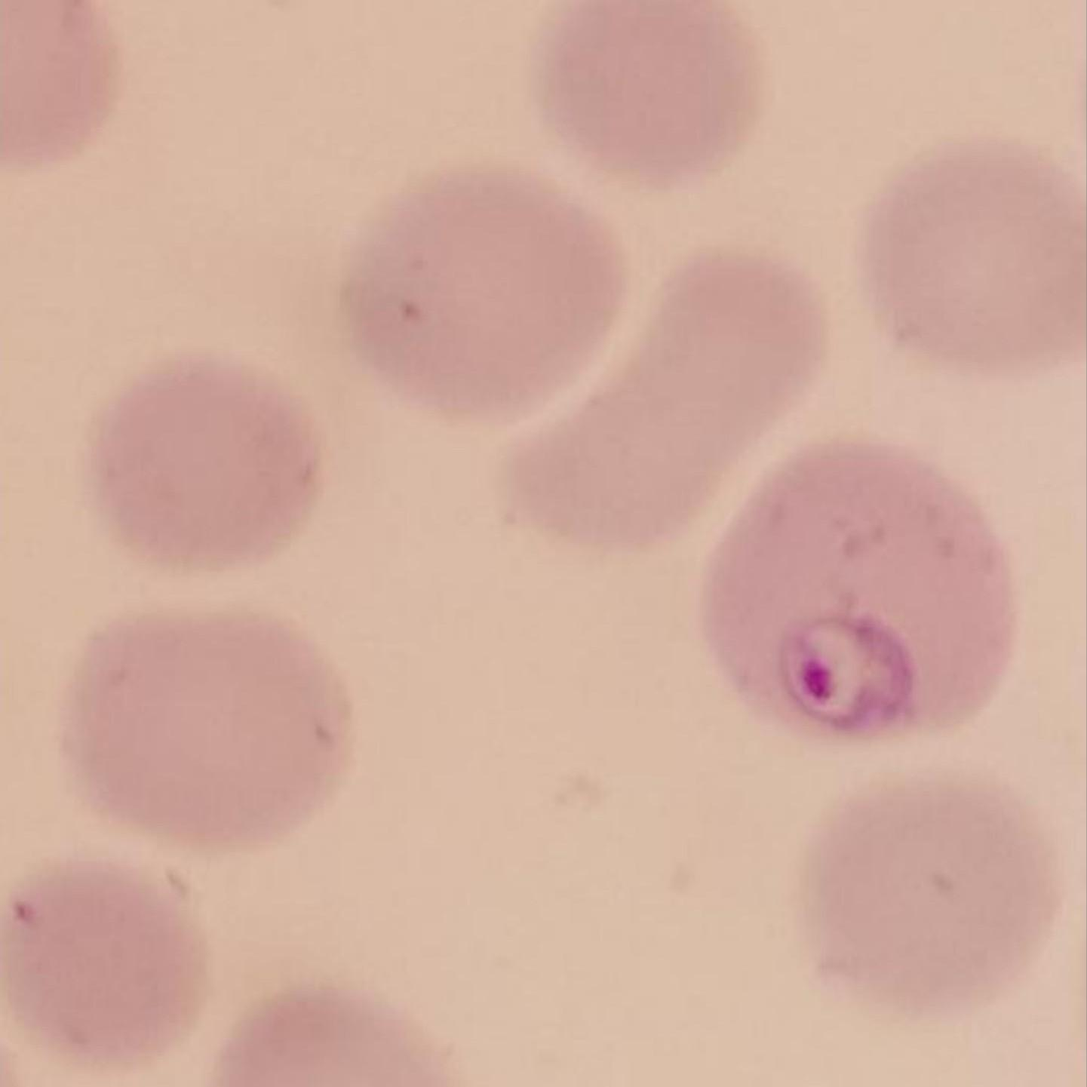Infected: (702, 442, 1012, 741)
Uninfected: (505, 242, 819, 547), (336, 172, 628, 425), (55, 613, 348, 854), (801, 774, 1060, 1009), (89, 353, 324, 578), (860, 142, 1087, 373), (0, 858, 210, 1059), (537, 0, 767, 178)
